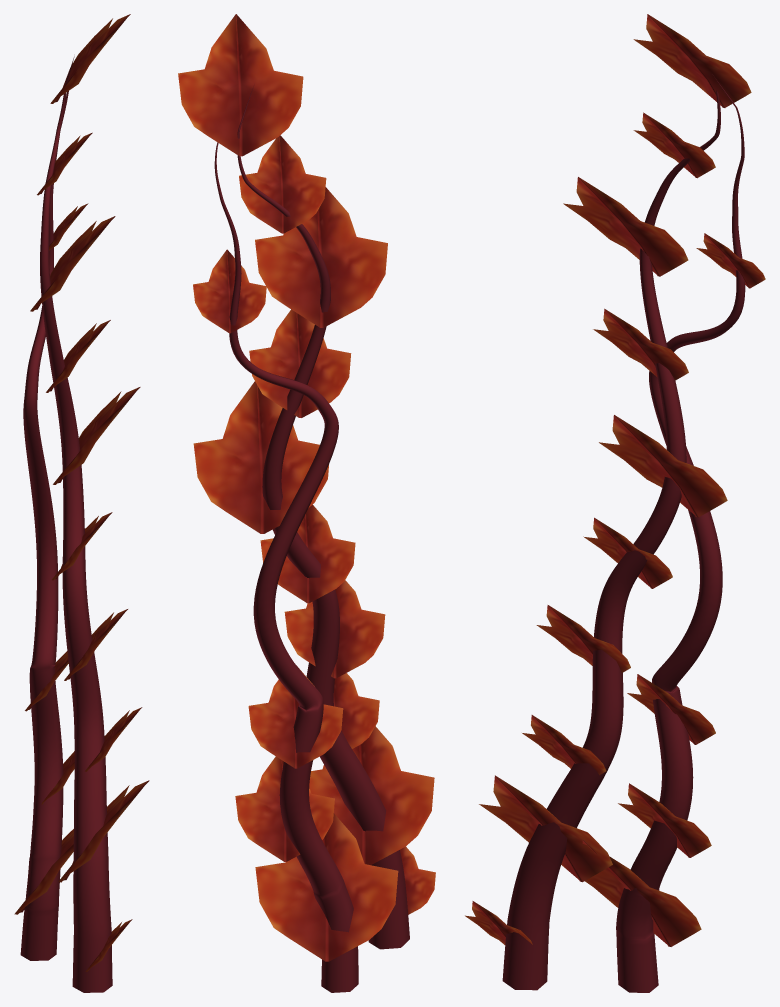
File: vigne.fbx
The picture shows the model from 3 angles, left to right: view 1: azimuth 30°, elevation 25°; view 2: azimuth 150°, elevation 25°; view 3: azimuth 270°, elevation 25°; orthographic projection. The views are drawn at different scales.
Parts seen in each view (by area): view 1: BézierCurve; view 2: BézierCurve; view 3: BézierCurve.
Boxes of the visible parts, x1,y1,x2,y2 form: BézierCurve: [14, 14, 149, 992]; BézierCurve: [178, 14, 435, 992]; BézierCurve: [465, 14, 765, 992].
Size of the model in its own units: 85.6 by 504 by 134.
2 materials, 1 textured.
